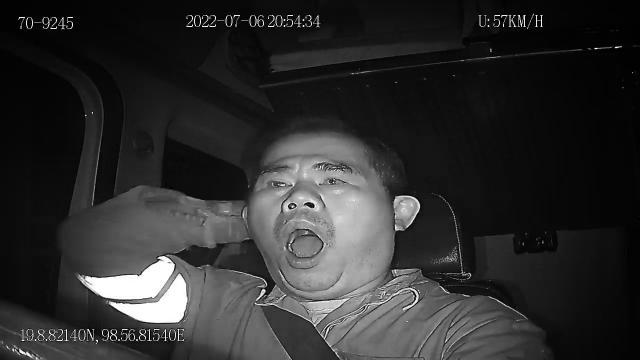SafeDriving: (310, 160, 357, 192), (261, 172, 297, 194)
Seatbelt: (260, 302, 342, 360)
